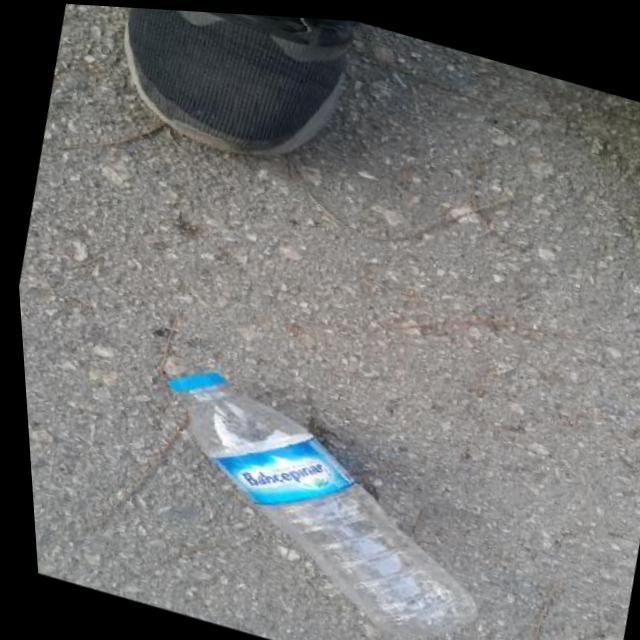plastic: (123, 359, 522, 640)
